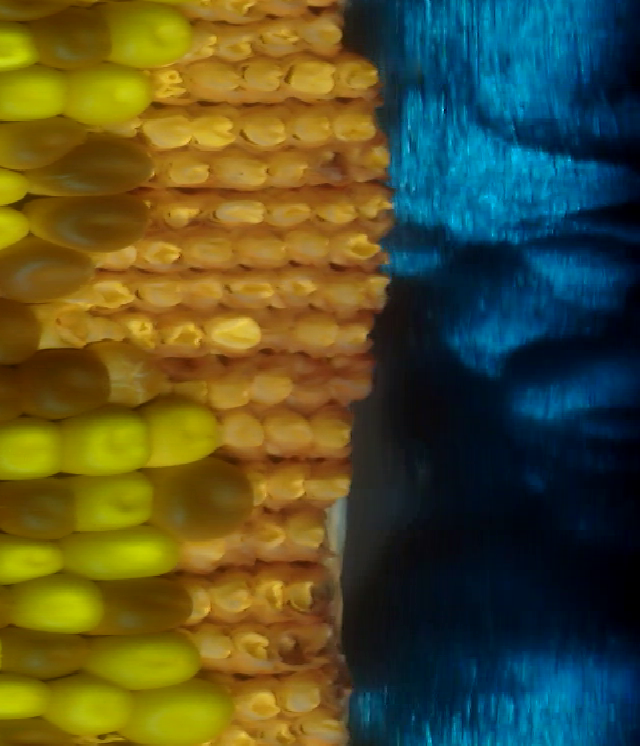fluorescent: (51, 402, 153, 480), (127, 674, 235, 746), (35, 674, 139, 745), (60, 523, 177, 582), (91, 632, 209, 688), (145, 397, 225, 470), (61, 61, 150, 125), (12, 574, 102, 637), (103, 4, 188, 69), (72, 469, 153, 532), (0, 417, 66, 481), (0, 69, 65, 117), (0, 532, 60, 581), (0, 17, 46, 75), (0, 674, 44, 723)
nonfluorescent: (153, 464, 261, 550), (25, 191, 151, 255), (20, 343, 108, 420), (39, 145, 158, 201), (101, 576, 198, 637), (0, 239, 88, 301), (4, 470, 77, 544), (99, 339, 167, 408), (0, 622, 88, 675), (32, 11, 108, 69), (0, 113, 74, 170), (0, 299, 45, 365)
